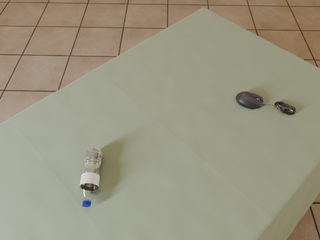bottle: (79, 147, 102, 207)
mouse: (236, 92, 264, 109)
